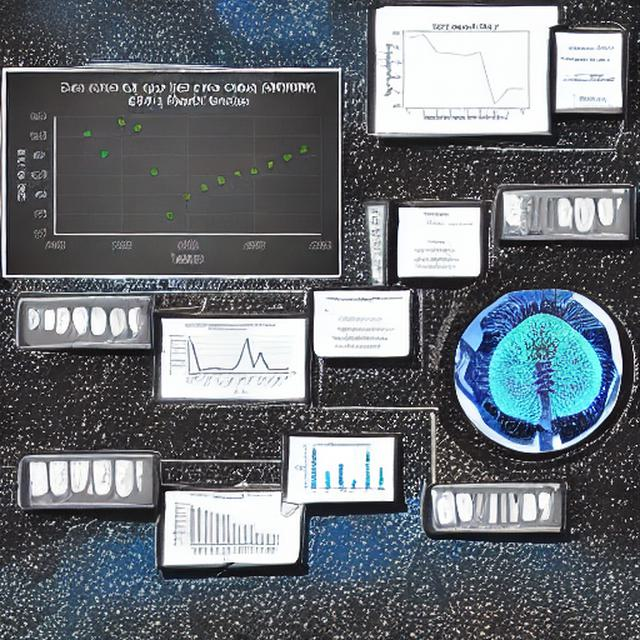Graph: (8, 73, 339, 275), (383, 8, 545, 130), (166, 321, 293, 397), (171, 492, 279, 562), (291, 440, 390, 498)
